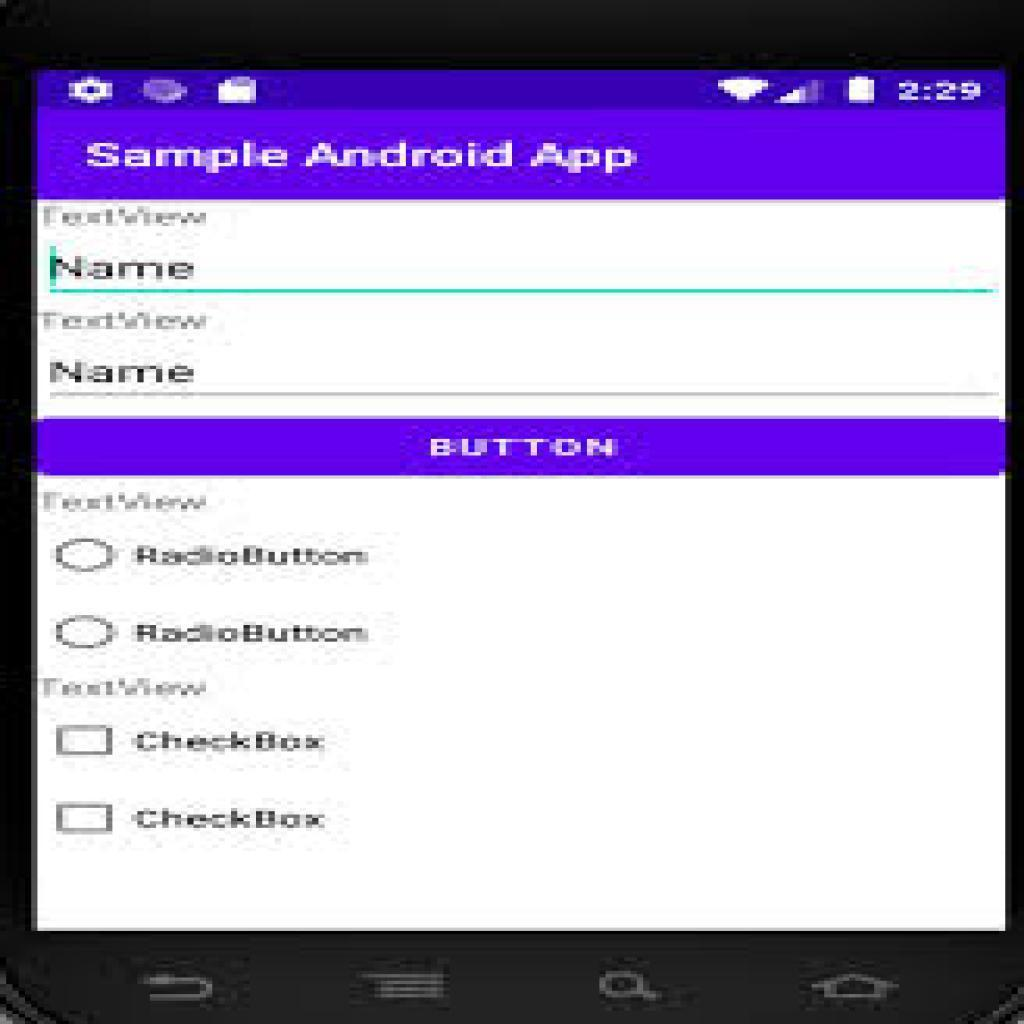button: (35, 417, 1005, 476)
checkbox: (55, 801, 113, 836), (58, 725, 116, 759)
icon: (810, 965, 900, 1011), (360, 968, 452, 1009), (591, 968, 665, 1009), (144, 968, 220, 1007), (137, 77, 195, 108), (68, 72, 115, 108), (215, 74, 261, 109), (722, 72, 768, 107), (841, 74, 881, 106), (778, 78, 822, 105)
label: (84, 137, 649, 176), (135, 618, 382, 652), (137, 542, 379, 572), (137, 801, 336, 836), (137, 727, 336, 758), (38, 304, 217, 334), (44, 202, 215, 231)
radio: (53, 539, 120, 576), (57, 614, 120, 653)
